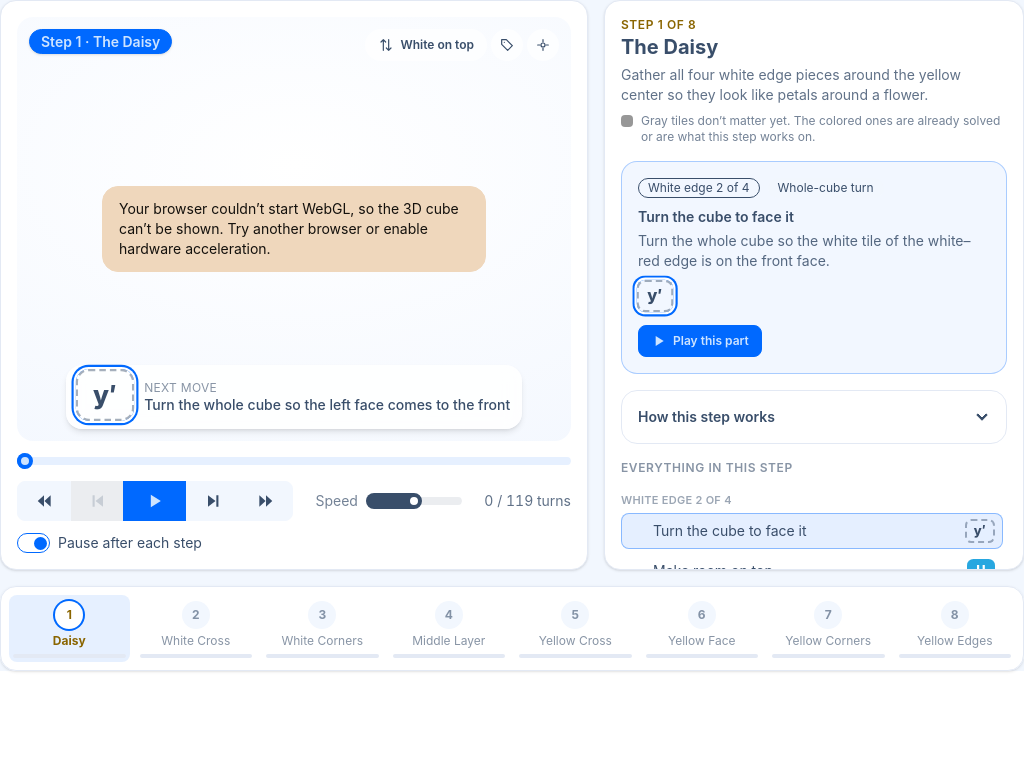
Solve page without WebGL › explains itself, and the rest of the page still works
The image size is (1024, 768).
Click the button named "Next step" at (266, 501), box [239, 481, 293, 521]
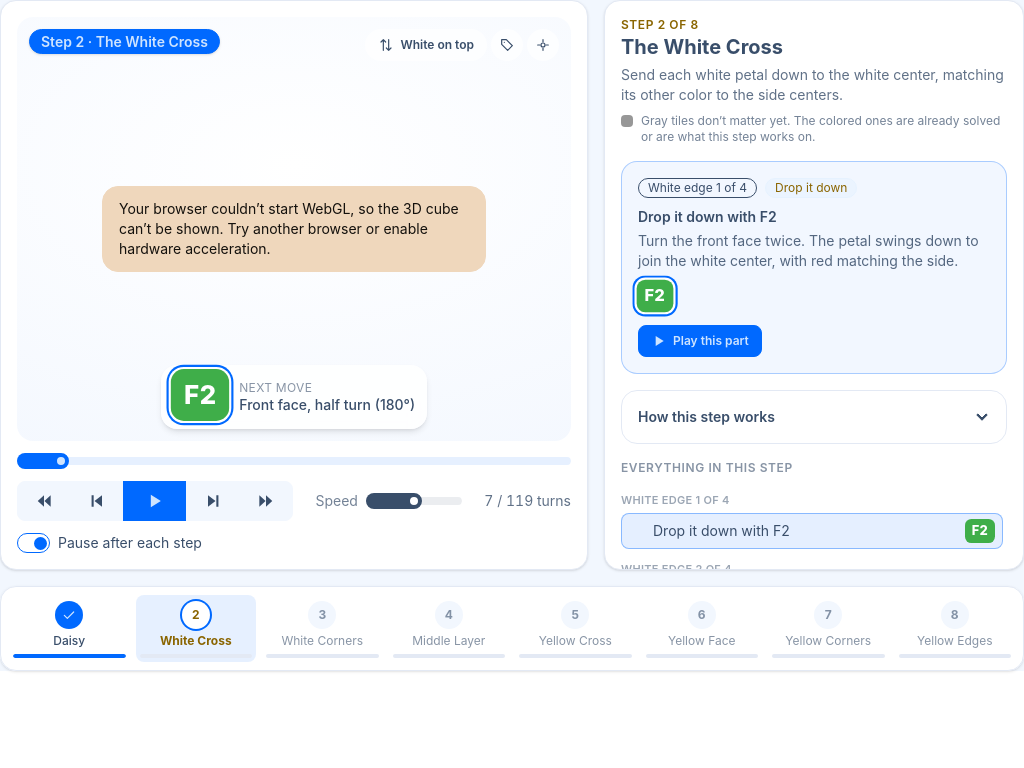
Check: the text "Step 2 of 8" is shown, box [621, 17, 699, 32]
